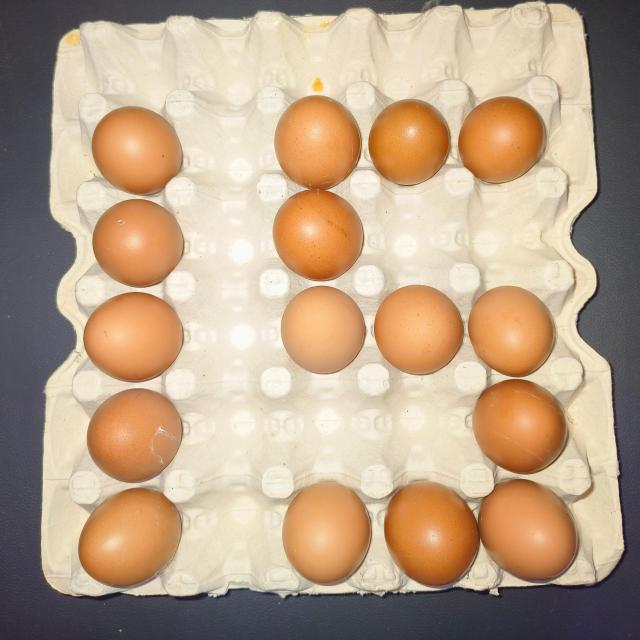Eggs: (385, 479, 481, 585), (76, 494, 182, 586), (281, 478, 371, 586), (490, 478, 581, 574), (90, 388, 180, 479), (85, 293, 181, 374), (280, 182, 365, 272), (282, 281, 362, 374), (478, 387, 568, 468), (82, 202, 182, 274), (276, 98, 362, 181), (375, 288, 460, 370), (461, 91, 539, 176), (92, 109, 178, 186), (475, 297, 554, 376), (372, 100, 442, 180)
